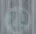Speed limit: (1, 4, 33, 33)
